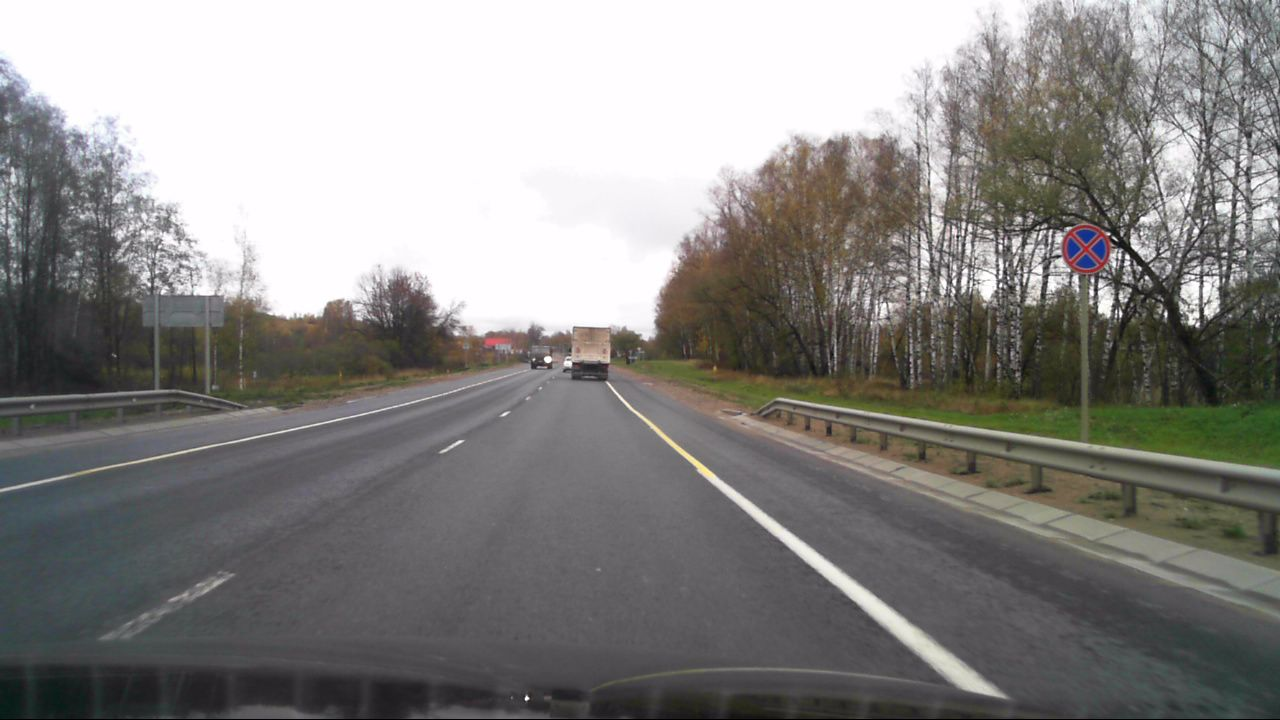No Parking: (1062, 224, 1109, 272)
